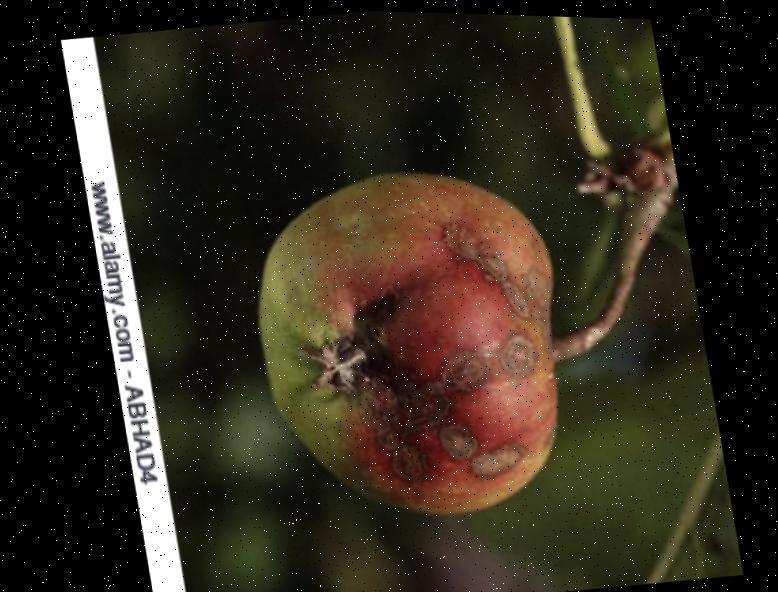SCAB: (214, 117, 637, 560)
